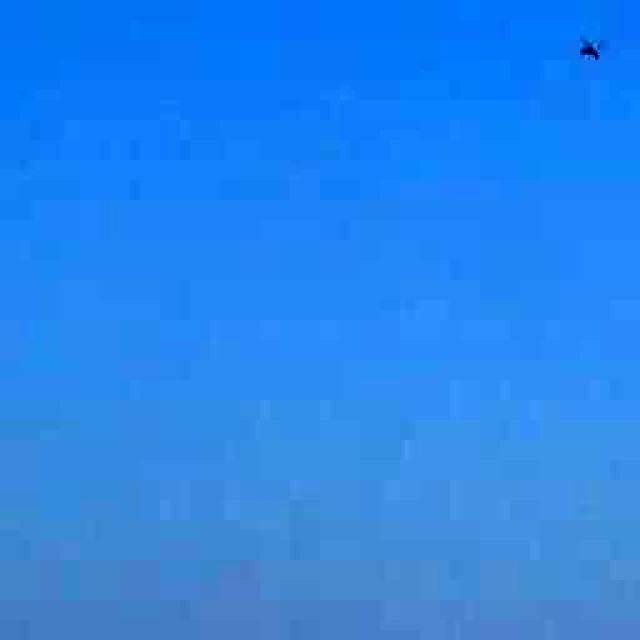bird: (555, 18, 628, 80)
